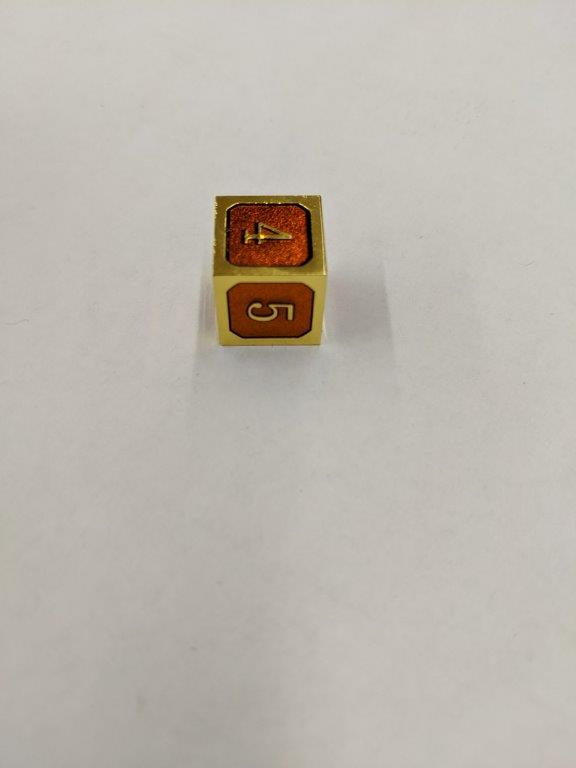d6-4: (212, 192, 326, 348)
